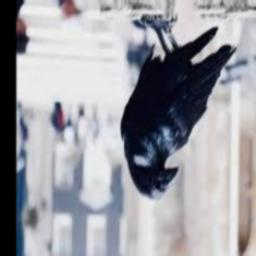Crow: (120, 15, 236, 202)
